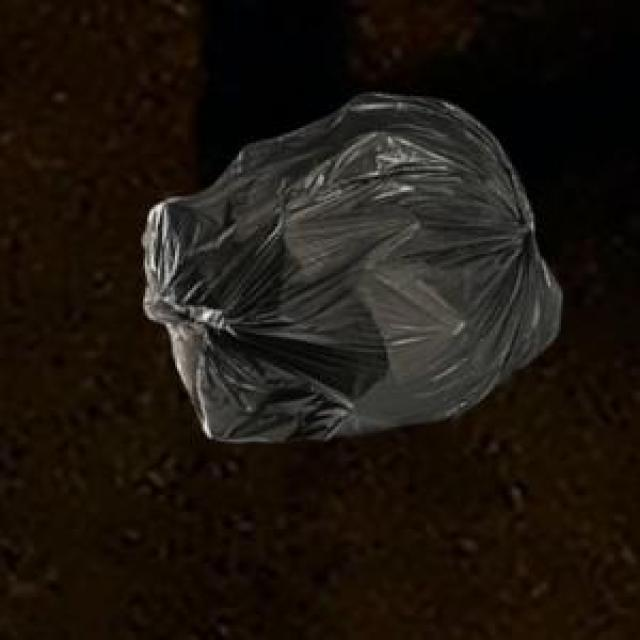miscellaneous trash: (139, 90, 557, 437)
